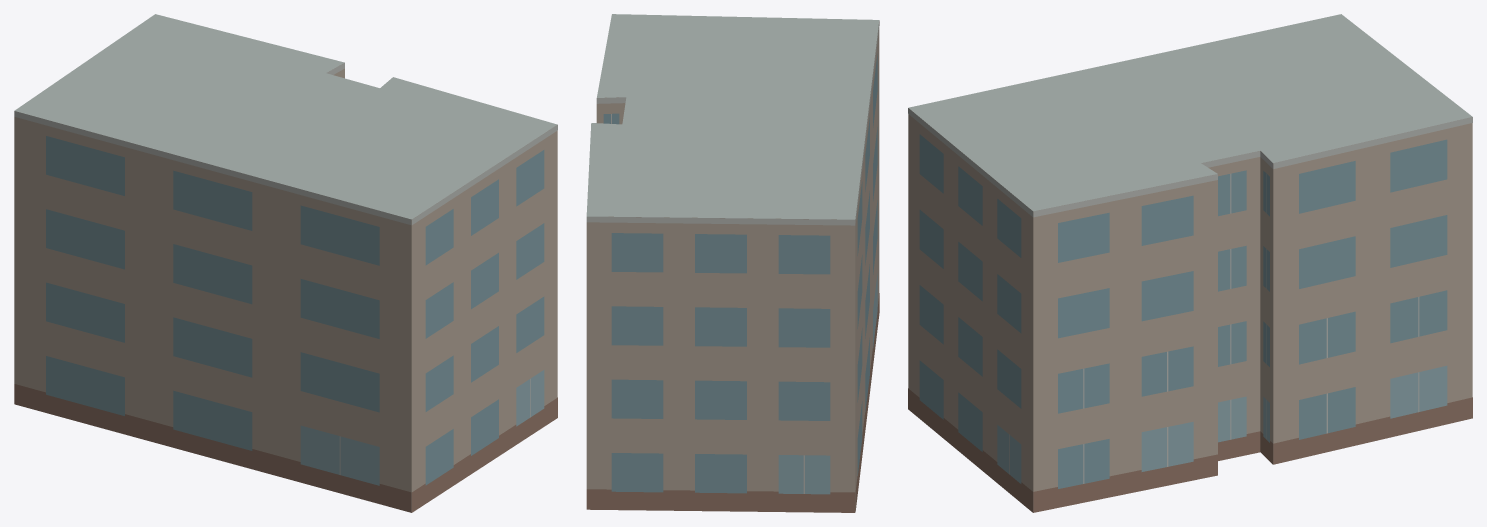
Rendered from survey-upis-32574503.glb.
The picture shows the model from 3 angles, left to right: view 1: azimuth 30°, elevation 25°; view 2: azimuth 150°, elevation 25°; view 3: azimuth 270°, elevation 25°; orthographic projection. The views are drawn at different scales.
Visible parts, largest first — view 1: survey-upis-32574503.tmp; view 2: survey-upis-32574503.tmp; view 3: survey-upis-32574503.tmp.
Boxes of the visible parts, x1=… form: survey-upis-32574503.tmp: x1=14, y1=14, x2=557, y2=512; survey-upis-32574503.tmp: x1=586, y1=14, x2=879, y2=512; survey-upis-32574503.tmp: x1=908, y1=14, x2=1472, y2=512.
Size of the model in its own units: 17.14 by 12.2 by 20.72.
